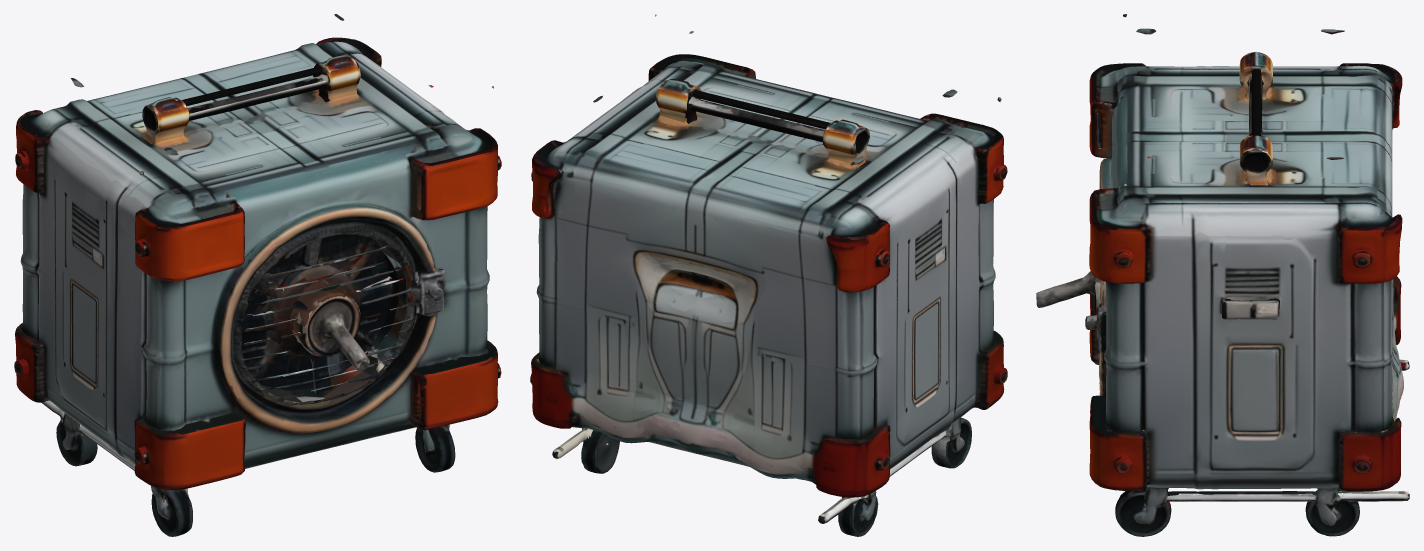
File: generador_electrico.glb
3 views of the same model, side by side, from view 1: azimuth 30°, elevation 25°; view 2: azimuth 150°, elevation 25°; view 3: azimuth 270°, elevation 25° (orthographic). The views are drawn at different scales.
Parts seen in each view (by area): view 1: tmp57vsh6da.ply; view 2: tmp57vsh6da.ply; view 3: tmp57vsh6da.ply.
Part boxes in pixels (x1,y1,x2,y2): tmp57vsh6da.ply: [14, 14, 501, 536]; tmp57vsh6da.ply: [530, 14, 1007, 536]; tmp57vsh6da.ply: [1036, 14, 1409, 536].
Bounding box in the file's own units: 0.9863 × 0.9999 × 0.8952.
Materials: 1 (1 with a texture image).
